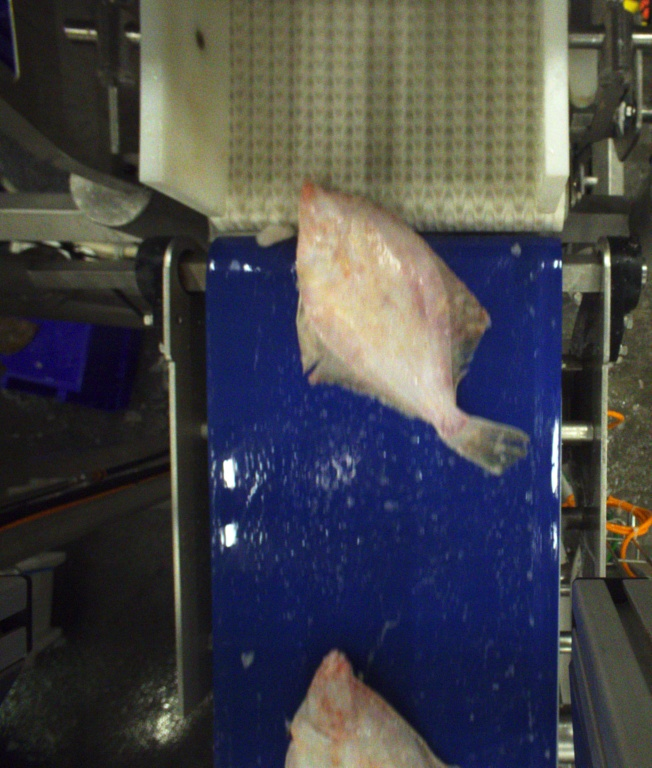PLE: (295, 182, 530, 471)
